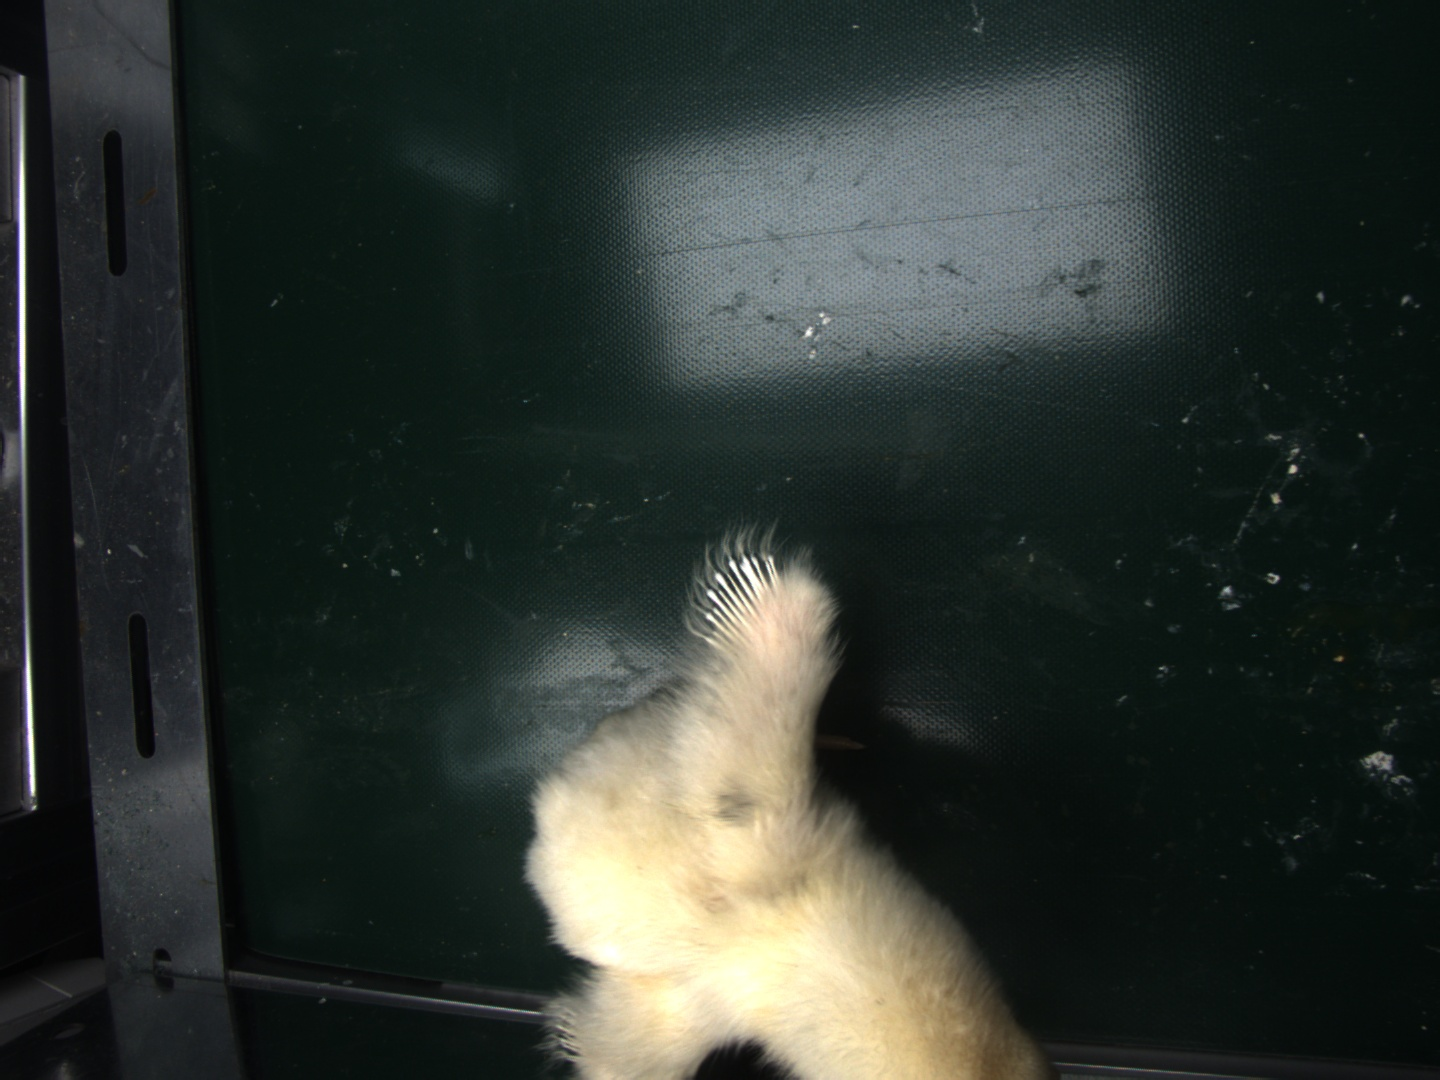male: (701, 551, 783, 646)
